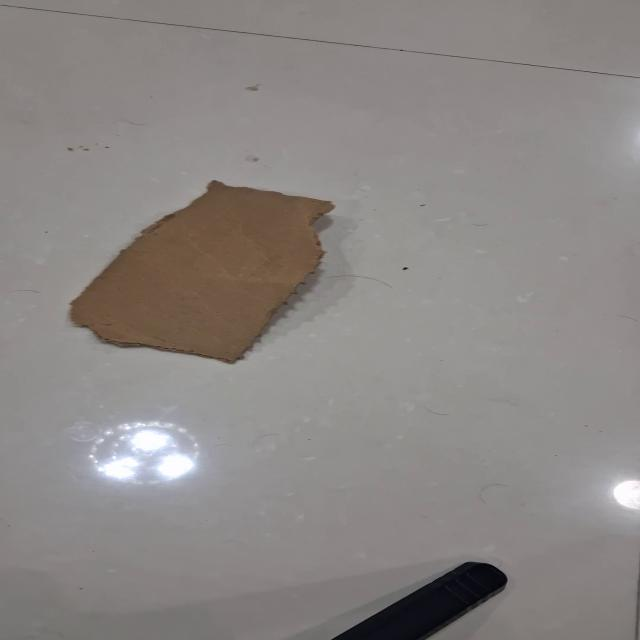paper: (67, 179, 335, 364)
